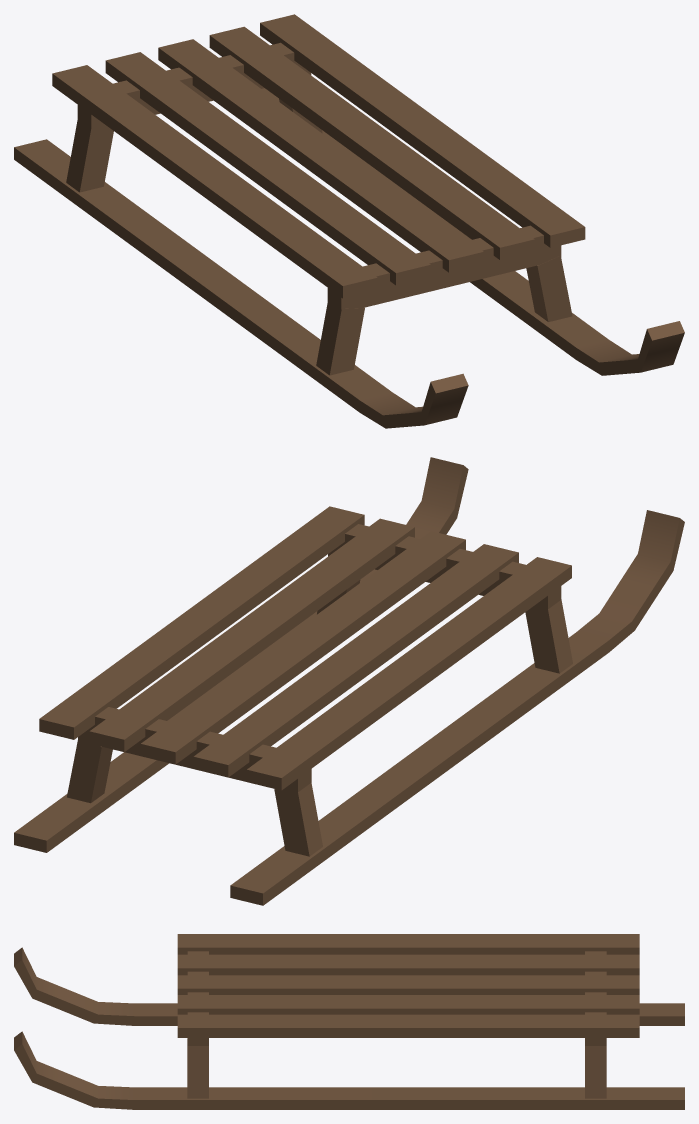
The model's file is luge.fbx.
3 renders of one model, top to bottom at view 1: azimuth 30°, elevation 25°; view 2: azimuth 150°, elevation 25°; view 3: azimuth 270°, elevation 25°, orthographic. The views are drawn at different scales.
Visible parts, largest first — view 1: Luge; view 2: Luge; view 3: Luge.
Boxes of the visible parts, x1,y1,x2,y2 form: Luge: [14, 14, 684, 428]; Luge: [14, 457, 684, 905]; Luge: [14, 934, 684, 1109].
Bounding box in the file's own units: 93.74 × 37.1 × 271.
